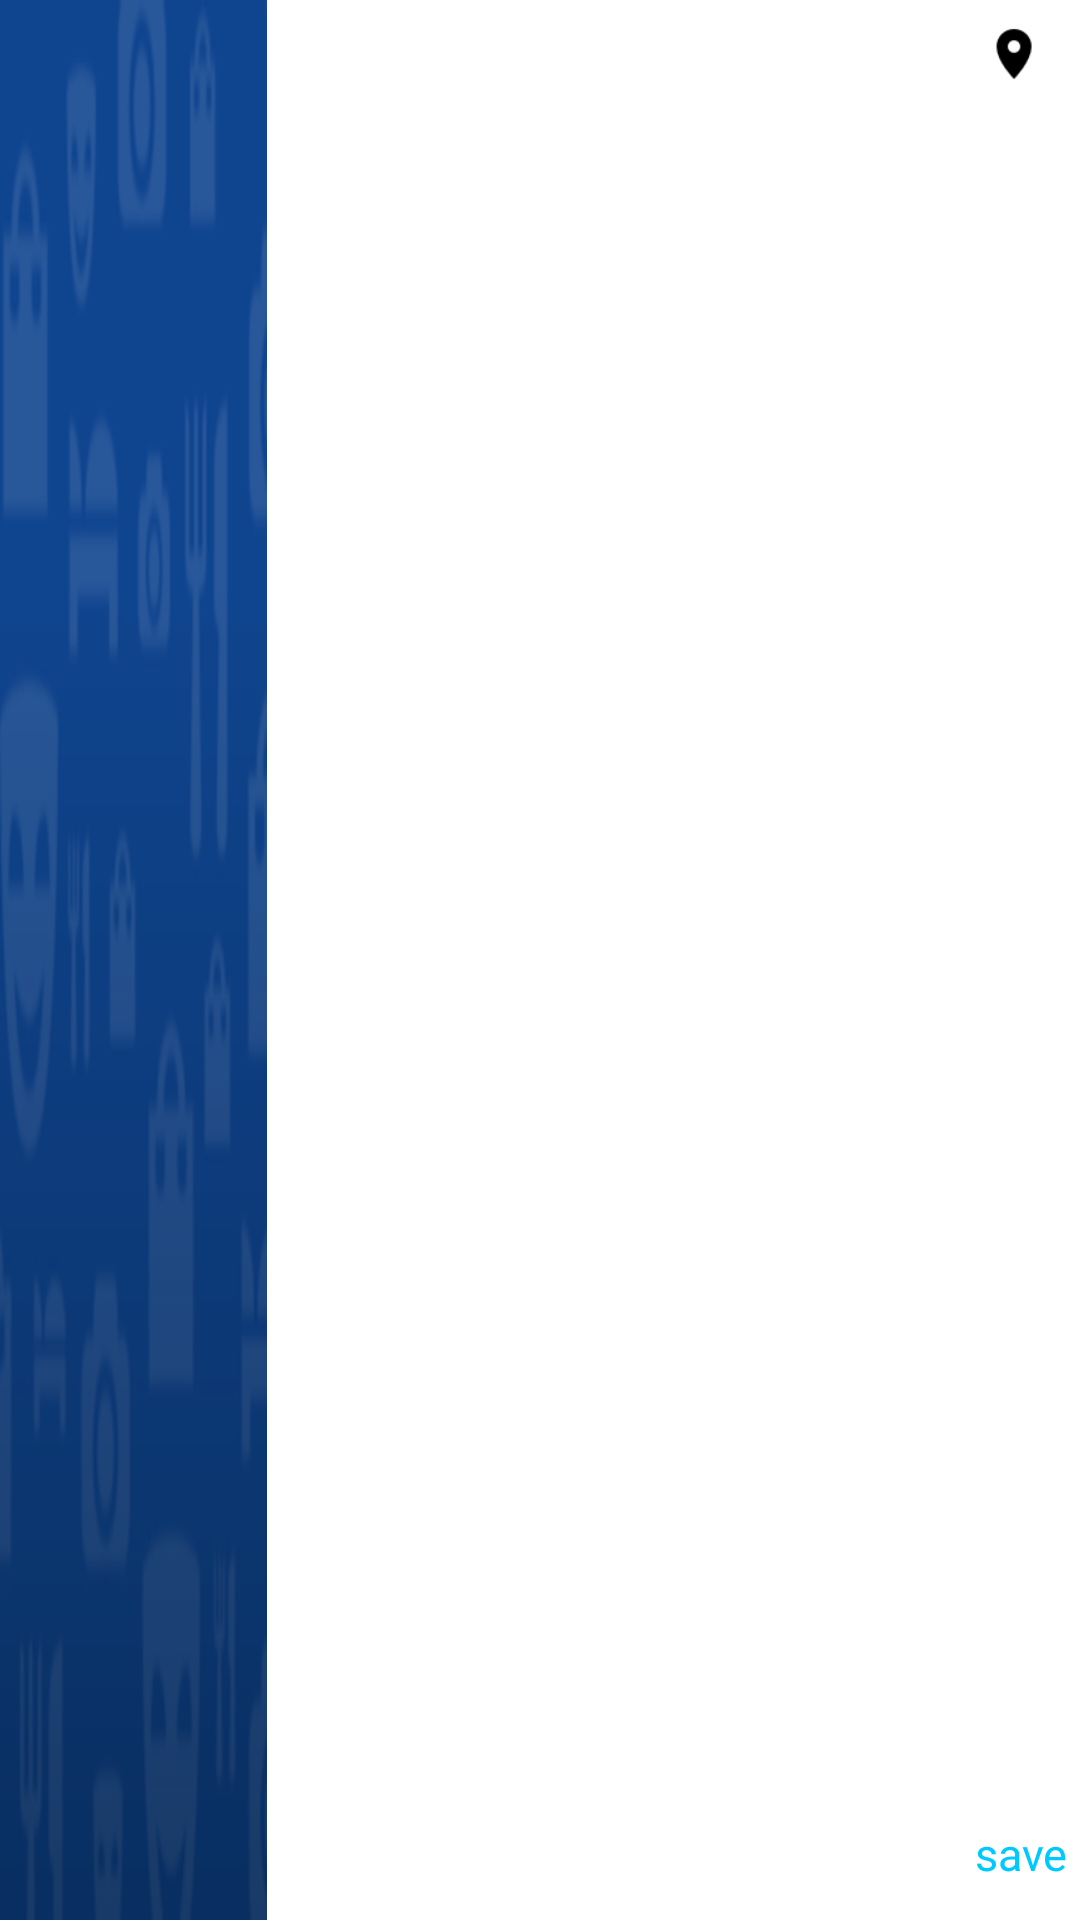

Named icons in this screenshot (1080×1920) and their bounding boxes, [x1,y1,x2,y2]:
marker: [996,29,1032,79]
